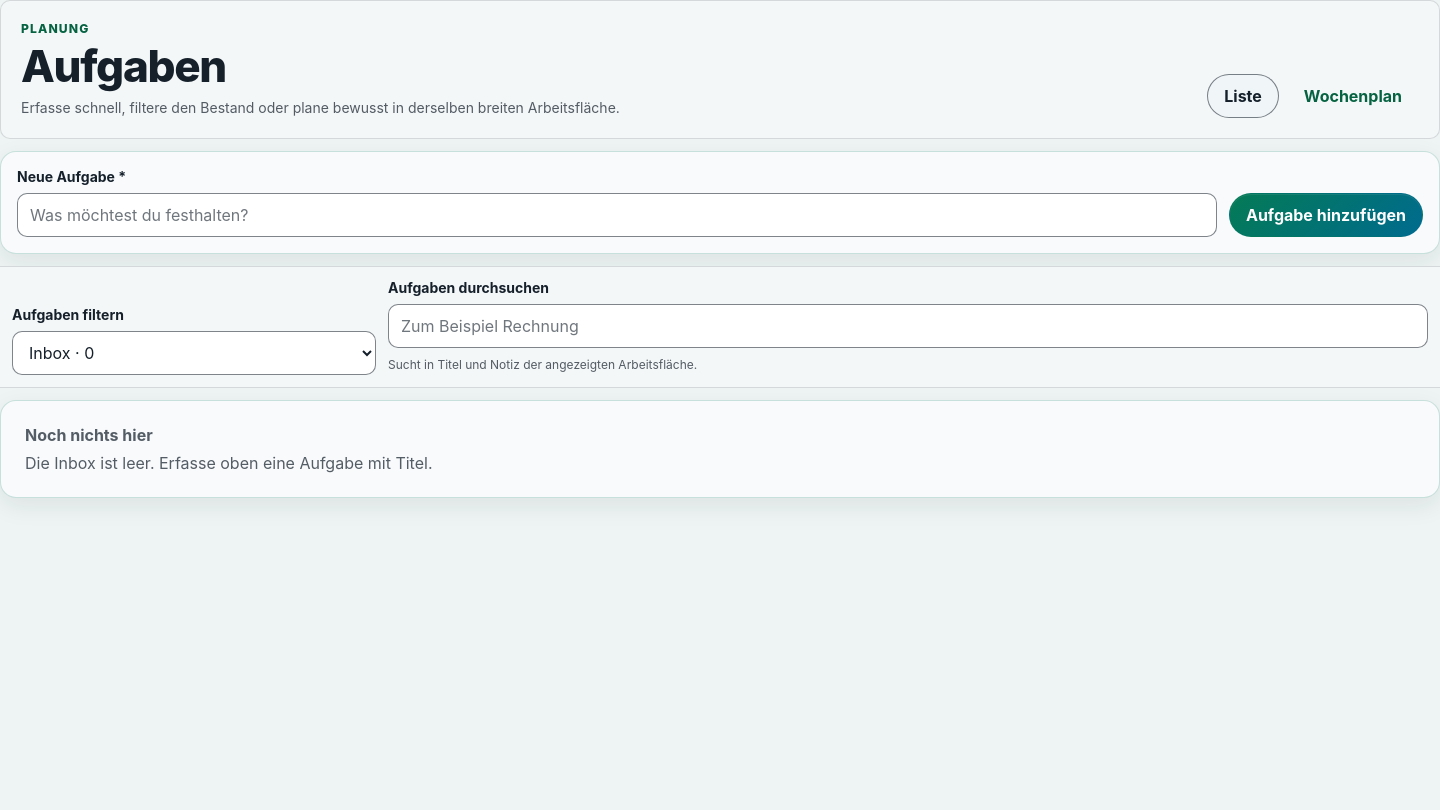
Test: TasksPage › plans the week from the planned date and keeps the denominator on completion
Click the button "Wochenplan". click: (1353, 96)
box: [1287,74,1419,118]
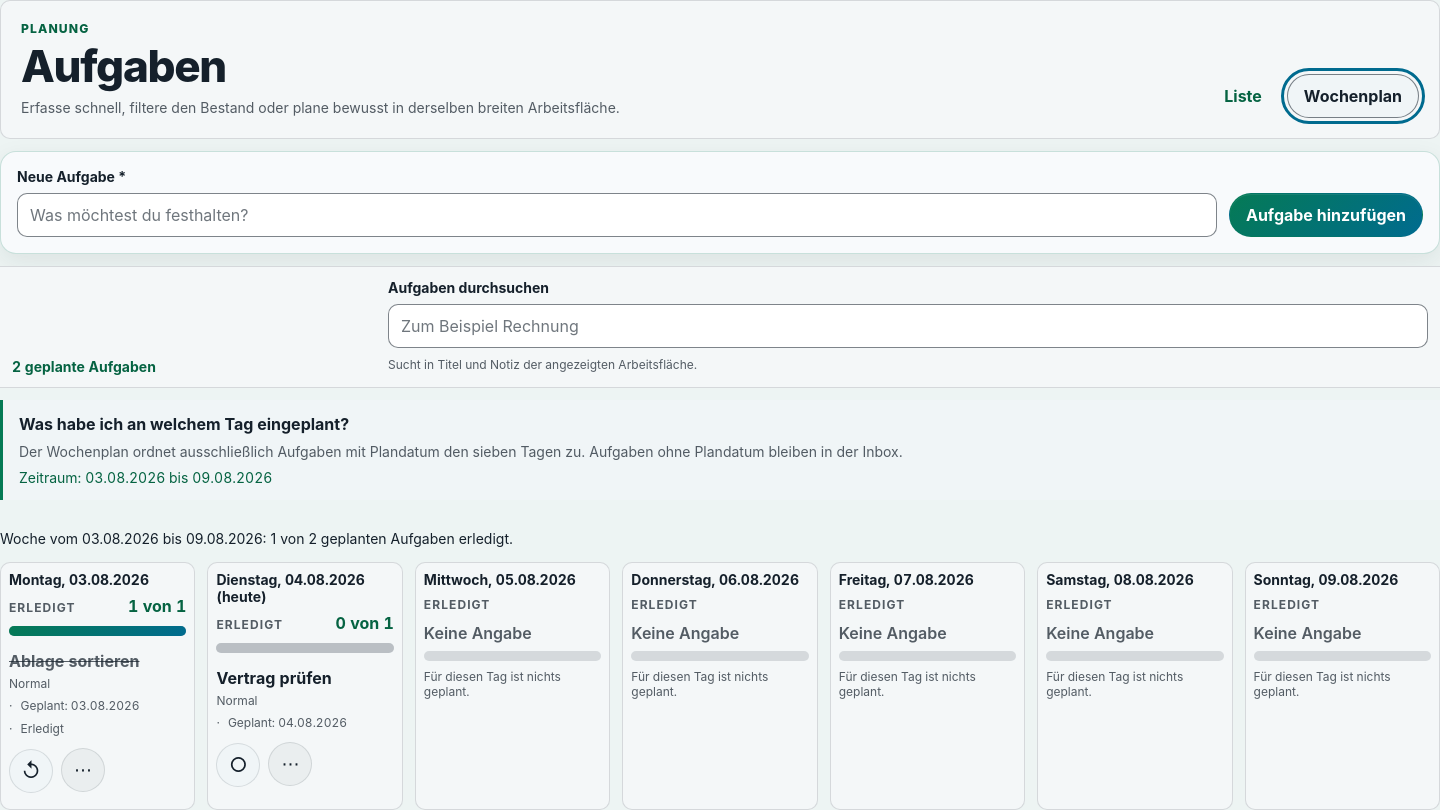
Result: the text "Woche vom 03.08.2026 bis 09.08.2026: 1 von 2 geplanten Aufgaben erledigt." is shown at [0,530,513,547]
Result: the text "0 von 1" is shown at [336,613,394,633]
Click the button named "„Vertrag prüfen“ abschließen". click: (238, 765)
box: [216,743,260,787]
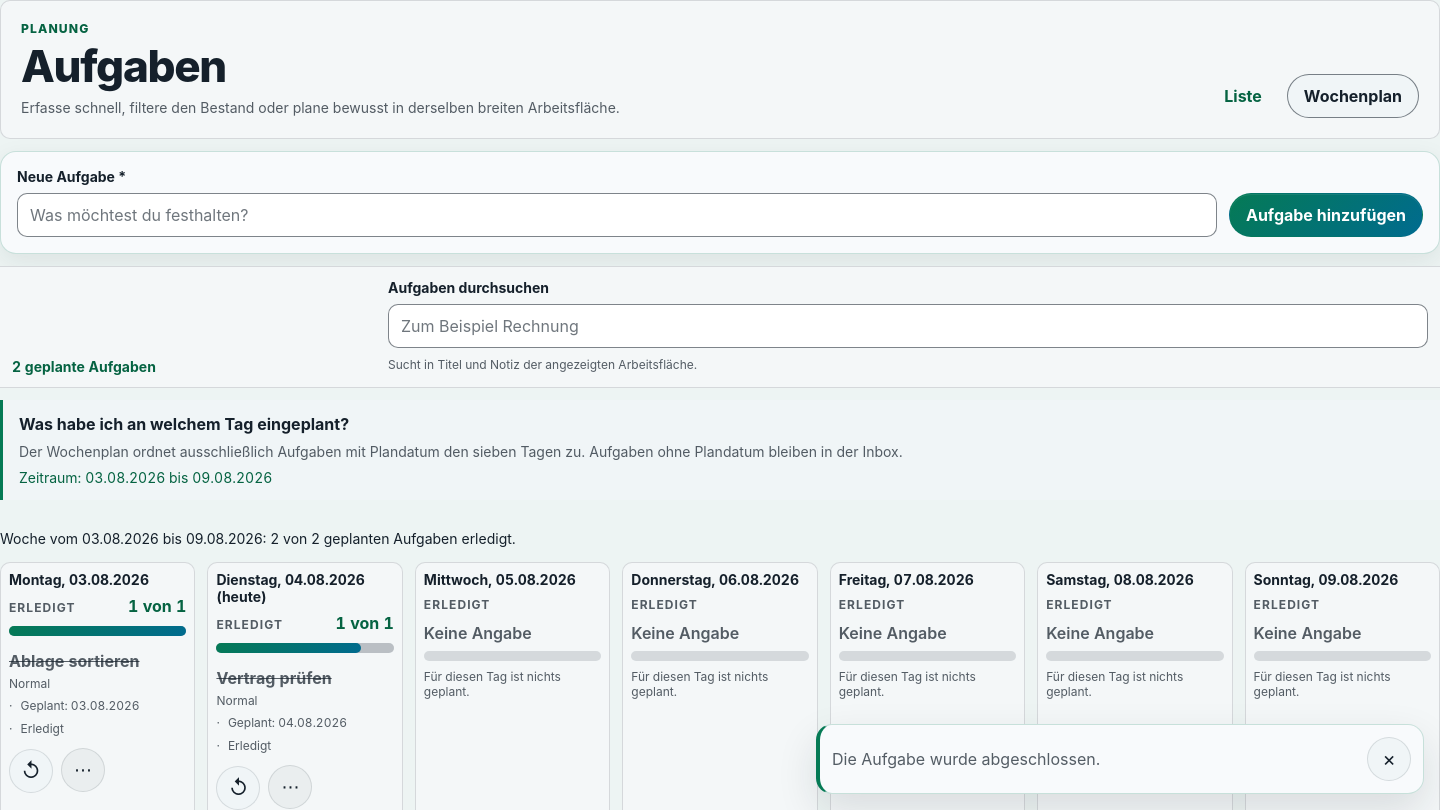
Result: the text "1 von 1" below "(heute)" is shown at [336,613,394,633]
Result: the text "Woche vom 03.08.2026 bis 09.08.2026: 2 von 2 geplanten Aufgaben erledigt." is shown at [0,530,516,547]
